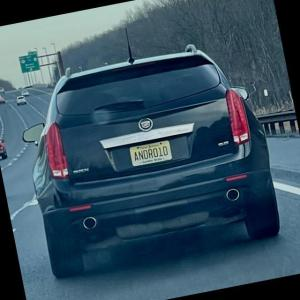Plate: (129, 139, 173, 167)
